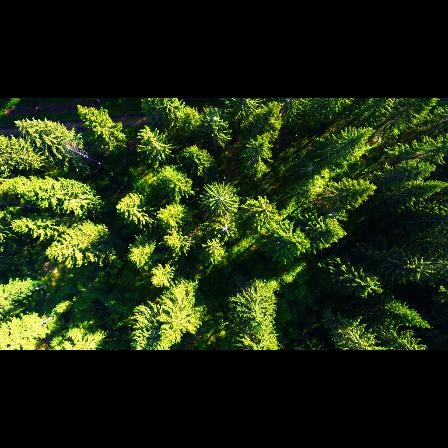Sick: (201, 182, 240, 217), (294, 158, 326, 178), (214, 220, 234, 237)
